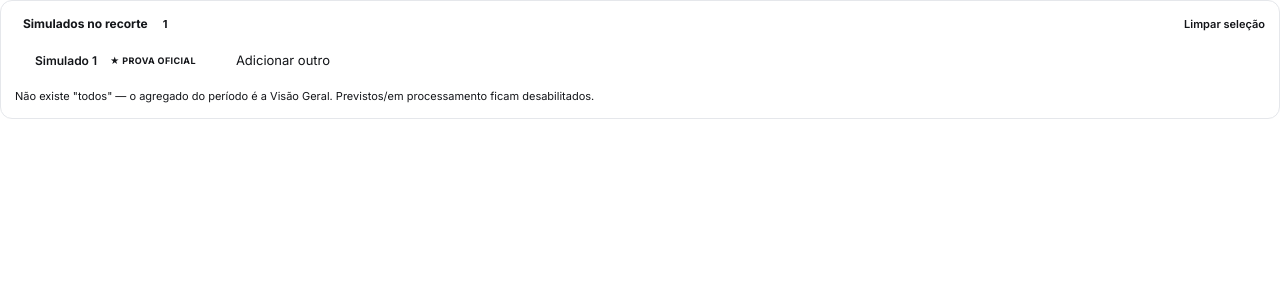
Scenario: SeletorSimulados › selo "★ Prova oficial" (Task 5) › renderiza o selo só ao lado do item que useEhProvaOficial reconhece, na linha e no chip
Expected: the text "★ Prova oficial" is shown once, [103, 54, 203, 67]
Click the button with aria-label "Escolher simulados": [283, 60] box [236, 49, 1257, 72]
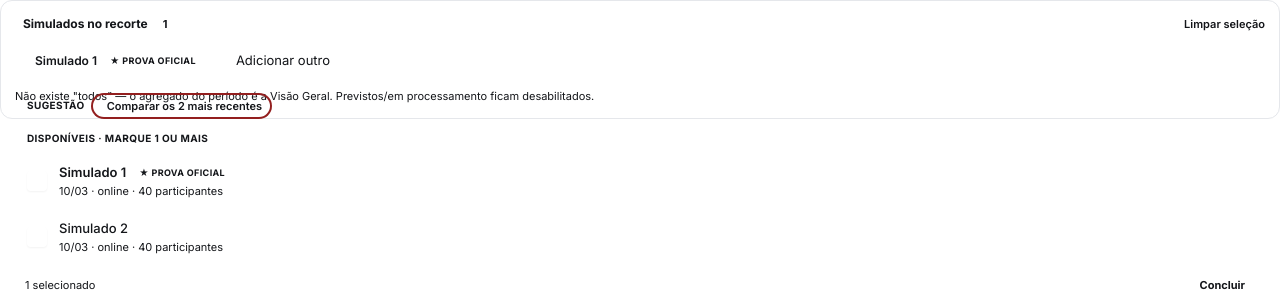
Now the text "★ Prova oficial" is shown 2 times, box [103, 54, 203, 67]; [132, 166, 232, 179]
Now the checkbox named "Simulado 1 · 10/03 · online, prova oficial" is shown, box [27, 164, 225, 198]
Now the checkbox named "Simulado 2 · 10/03 · online" is shown, box [27, 220, 223, 254]
